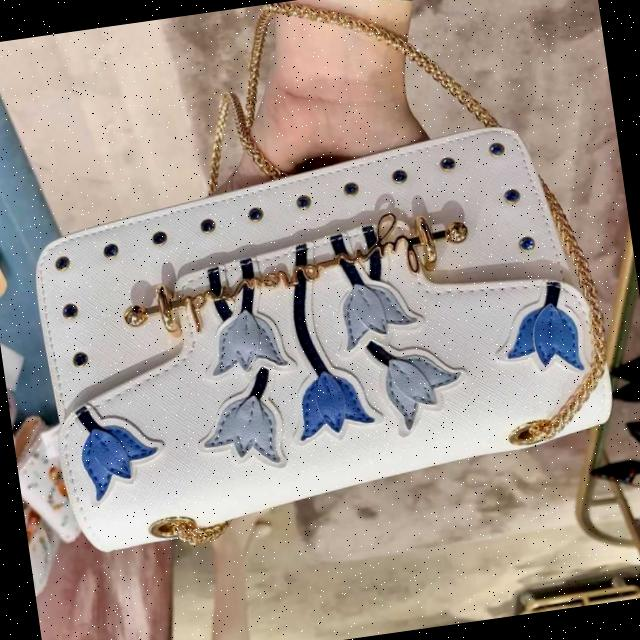handbag: (25, 116, 626, 559)
